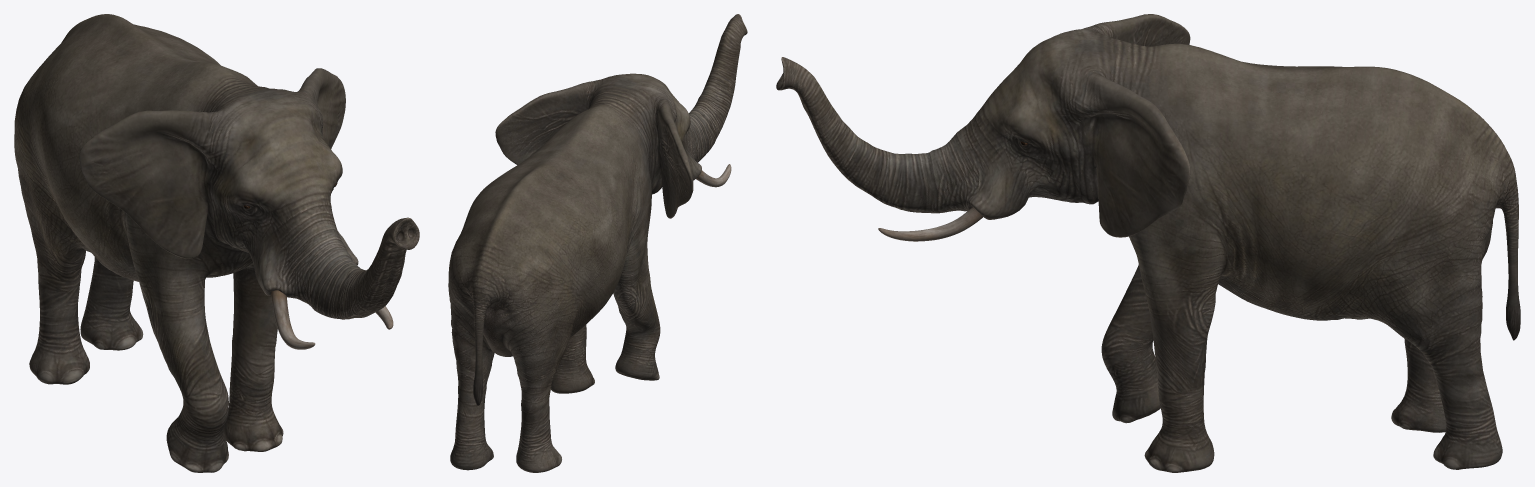
Rendered from Elephant.gltf.
3 views of the same model, side by side, from view 1: azimuth 30°, elevation 25°; view 2: azimuth 150°, elevation 25°; view 3: azimuth 270°, elevation 25° (orthographic). The views are drawn at different scales.
Parts seen in each view (by area): view 1: node_id29; view 2: node_id29; view 3: node_id29.
Boxes of the visible parts, left/top/right/bottom form: node_id29: left=14, top=14, right=419, bottom=472; node_id29: left=448, top=14, right=747, bottom=472; node_id29: left=776, top=14, right=1520, bottom=472.
Bounding box in the file's own units: 0.3685 × 0.512 × 0.8575.
1 material, 1 textured.
